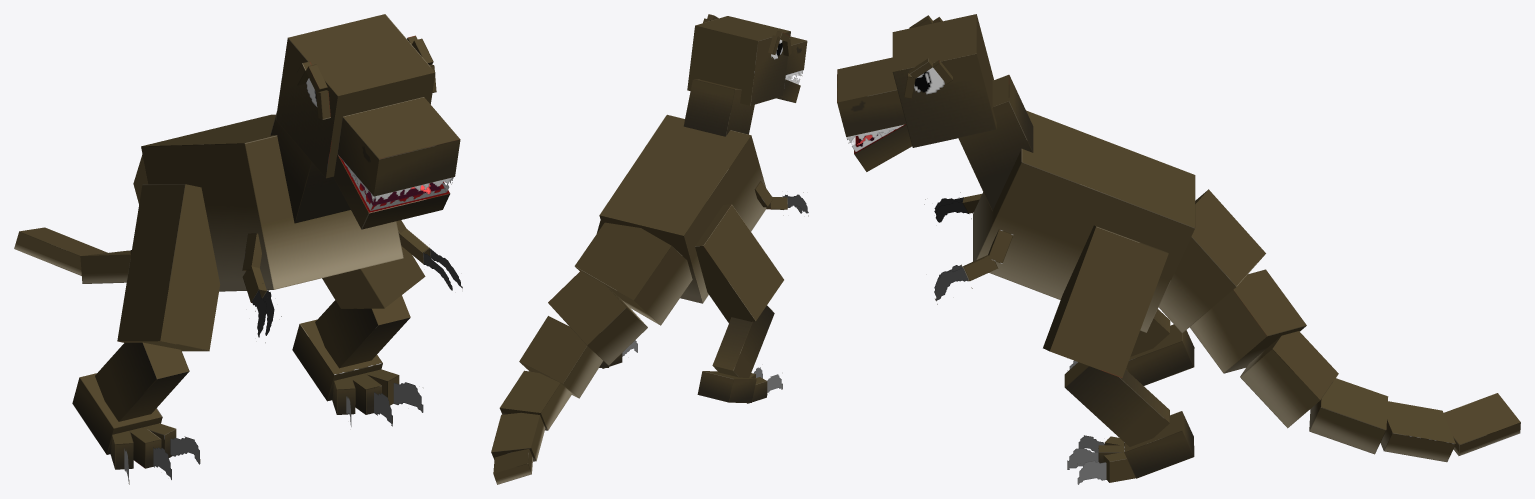
File: animateddinosaur16.obj
3 views of the same model, side by side, from view 1: azimuth 30°, elevation 25°; view 2: azimuth 150°, elevation 25°; view 3: azimuth 270°, elevation 25° (orthographic). The views are drawn at different scales.
Visible parts, largest first — view 1: Object_6, Object_64, Object_9, Object_56, Object_12, Object_34, Object_31, Object_53, Object_79, Object_37, Object_15, Object_107 (+12 smaller); view 2: Object_6, Object_92, Object_64, Object_9, Object_95, Object_98, Object_53, Object_12, Object_101, Object_104, Object_15, Object_107 (+1 smaller); view 3: Object_6, Object_31, Object_64, Object_92, Object_95, Object_98, Object_34, Object_53, Object_101, Object_56, Object_104, Object_107 (+5 smaller).
Part boxes in pixels (x1,y1,x2,y2): Object_6: [141, 114, 403, 291]; Object_64: [276, 14, 435, 178]; Object_9: [117, 184, 220, 351]; Object_56: [337, 97, 460, 196]; Object_12: [95, 342, 189, 421]; Object_34: [315, 295, 410, 368]; Object_31: [322, 246, 425, 308]; Object_53: [270, 112, 350, 223]; Object_79: [333, 154, 450, 229]; Object_37: [292, 319, 382, 401]; Object_15: [72, 373, 162, 454]; Object_107: [14, 227, 107, 275]; Object_6: [599, 114, 766, 303]; Object_92: [574, 222, 692, 325]; Object_64: [687, 16, 790, 105]; Object_9: [695, 204, 783, 322]; Object_95: [548, 271, 647, 365]; Object_98: [519, 316, 602, 398]; Object_53: [683, 79, 754, 136]; Object_12: [712, 305, 774, 377]; Object_101: [499, 370, 571, 430]; Object_104: [491, 412, 545, 461]; Object_15: [697, 371, 756, 402]; Object_107: [493, 449, 533, 484]; Object_6: [973, 110, 1195, 332]; Object_31: [1043, 225, 1168, 377]; Object_64: [892, 14, 996, 147]; Object_92: [1159, 189, 1265, 333]; Object_95: [1189, 269, 1306, 373]; Object_98: [1240, 331, 1338, 428]; Object_34: [1064, 362, 1169, 446]; Object_53: [958, 74, 1033, 211]; Object_101: [1309, 378, 1388, 454]; Object_56: [837, 57, 906, 136]; Object_104: [1380, 401, 1455, 462]; Object_107: [1443, 393, 1520, 455].
Size of the model in its own units: 2.26 by 3.5 by 5.44.
